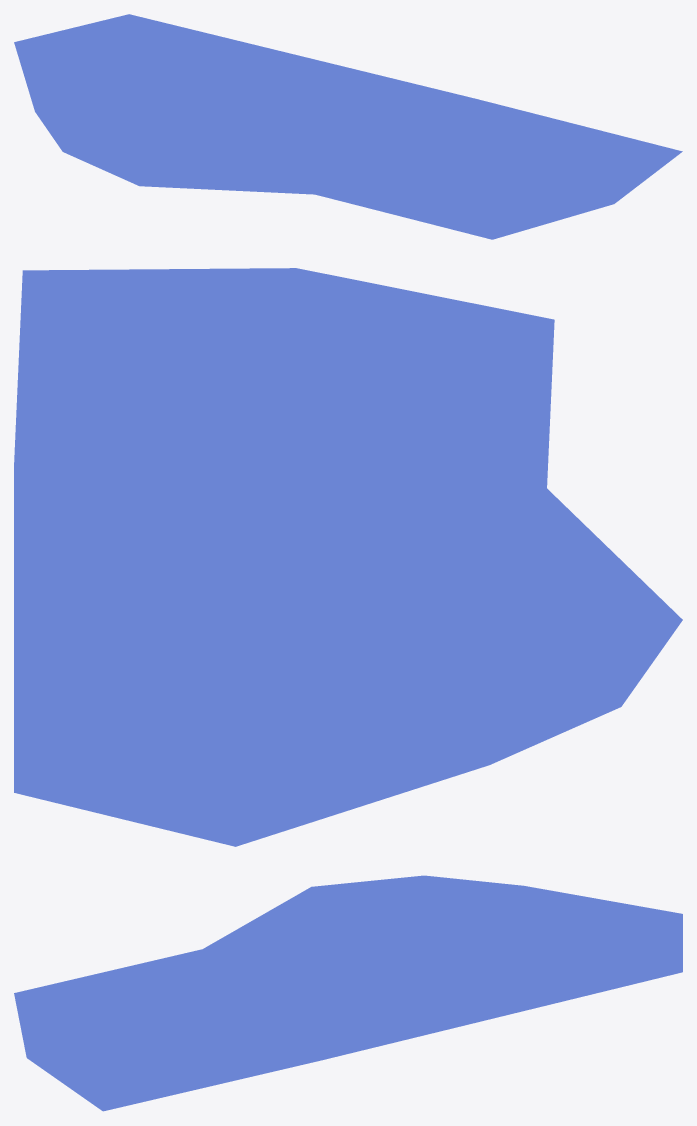
The model's file is suelo_hielo.fbx.
3 views of the same model, one above another, from view 1: azimuth 30°, elevation 25°; view 2: azimuth 150°, elevation 25°; view 3: azimuth 270°, elevation 25° (orthographic). The views are drawn at different scales.
Parts seen in each view (by area): view 1: Cylinder002; view 2: Cylinder002; view 3: Cylinder002.
Boxes of the visible parts, box(x1,y1,x2,y2) form: Cylinder002: box(14, 14, 682, 239); Cylinder002: box(14, 268, 682, 846); Cylinder002: box(14, 875, 682, 1111).
Size of the model in its own units: 58.22 by 3.12e-07 by 69.75.
